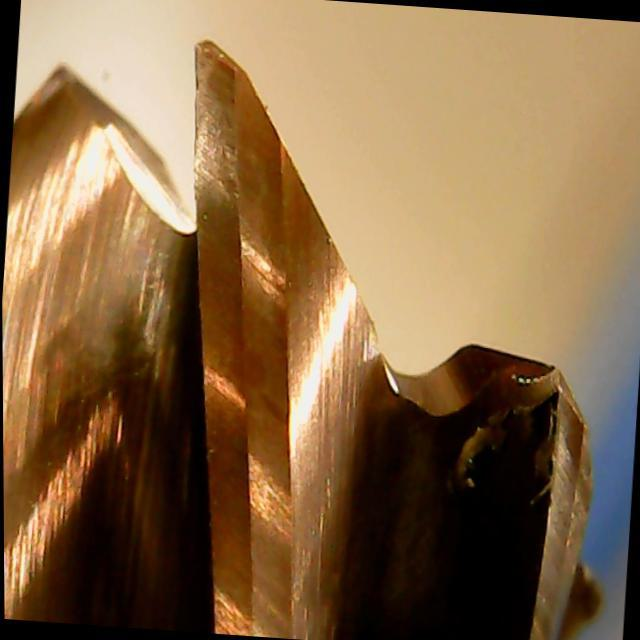Tool-wear-class-1: (166, 26, 315, 276)
